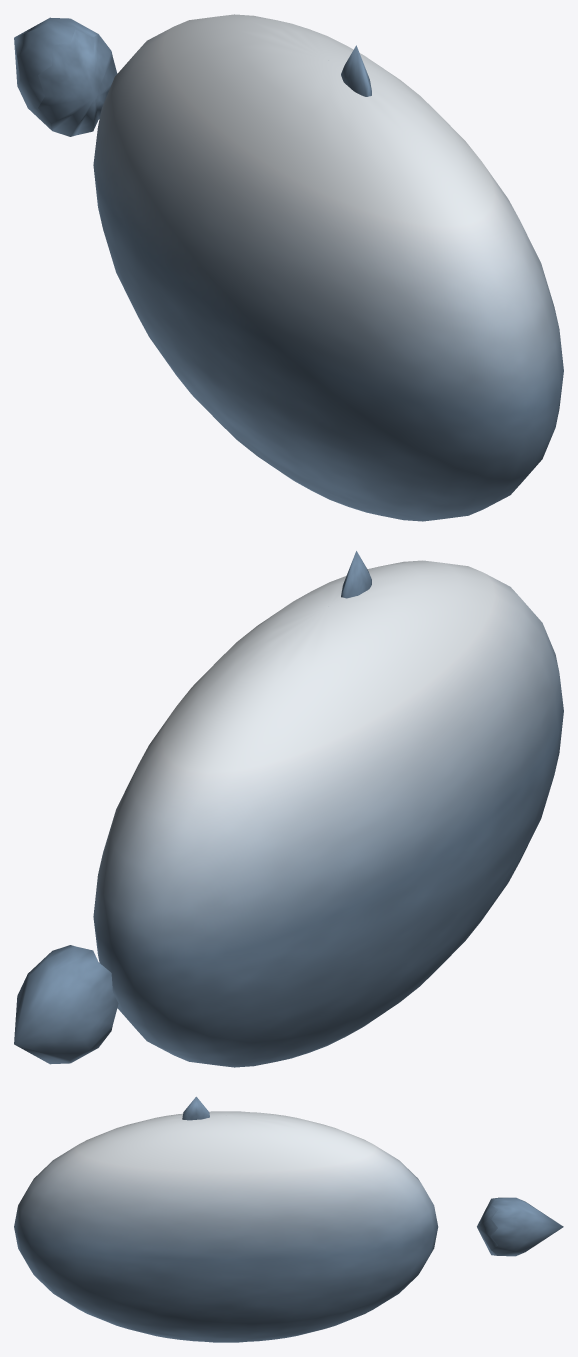
The model's file is herring.fbx.
The picture shows the model from 3 angles, top to bottom: view 1: azimuth 30°, elevation 25°; view 2: azimuth 150°, elevation 25°; view 3: azimuth 270°, elevation 25°; orthographic projection. The views are drawn at different scales.
Parts seen in each view (by area): view 1: herring; view 2: herring; view 3: herring.
Part boxes in pixels (x1,y1,x2,y2): herring: (14,14,563,521); herring: (14,551,563,1067); herring: (14,1096,563,1342).
Bounding box in the file's own units: 5.32 × 8.97 × 18.47.
